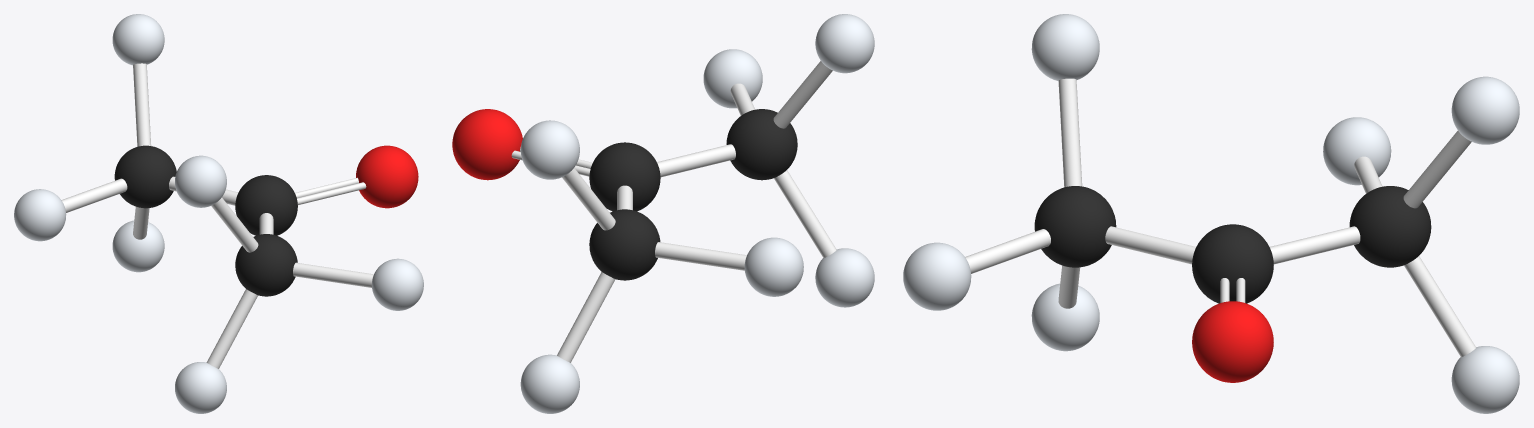
The model's file is acetone.fbx.
3 views of the same model, side by side, from view 1: azimuth 30°, elevation 25°; view 2: azimuth 150°, elevation 25°; view 3: azimuth 270°, elevation 25° (orthographic). The views are drawn at different scales.
Visible parts, largest first — view 1: acetone; view 2: acetone; view 3: acetone.
Boxes of the visible parts, x1,y1,x2,y2 form: acetone: (14, 14, 423, 413); acetone: (452, 14, 874, 413); acetone: (903, 14, 1519, 413).
Bounding box in the file's own units: 232 × 161 × 271.
